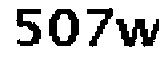0: (48, 7, 80, 48)
5: (11, 5, 49, 53)
7: (84, 6, 115, 56)
w: (115, 16, 160, 54)
